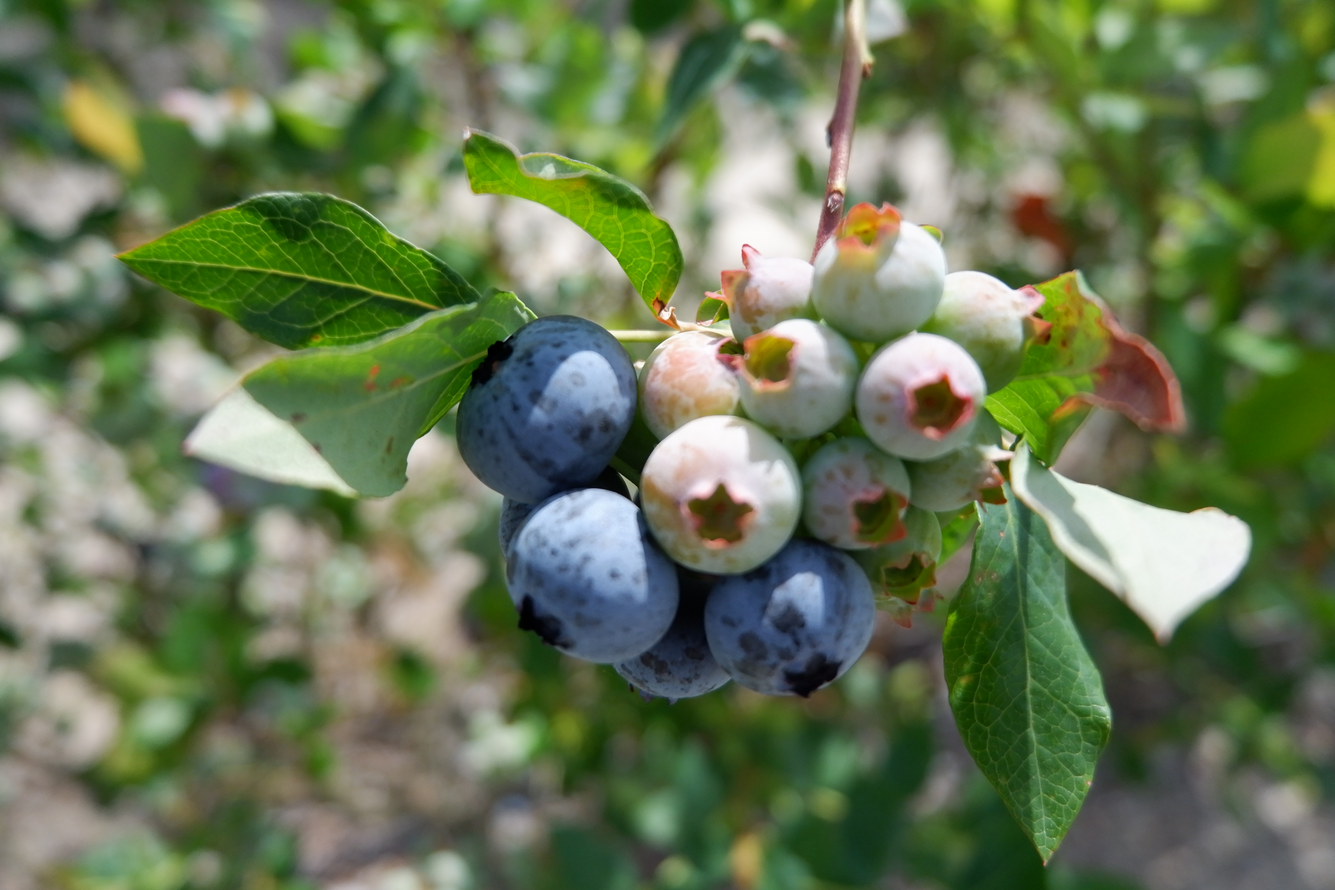Immature: (642, 416, 799, 570), (817, 208, 943, 339), (861, 337, 983, 458), (922, 273, 1043, 389), (742, 320, 857, 436), (804, 439, 909, 547), (907, 408, 1017, 511), (643, 334, 741, 436), (848, 503, 943, 606), (723, 245, 813, 339), (874, 585, 943, 629)
Mature: (461, 320, 632, 500), (507, 491, 676, 661), (709, 540, 872, 693), (619, 575, 726, 698), (497, 467, 641, 555)
